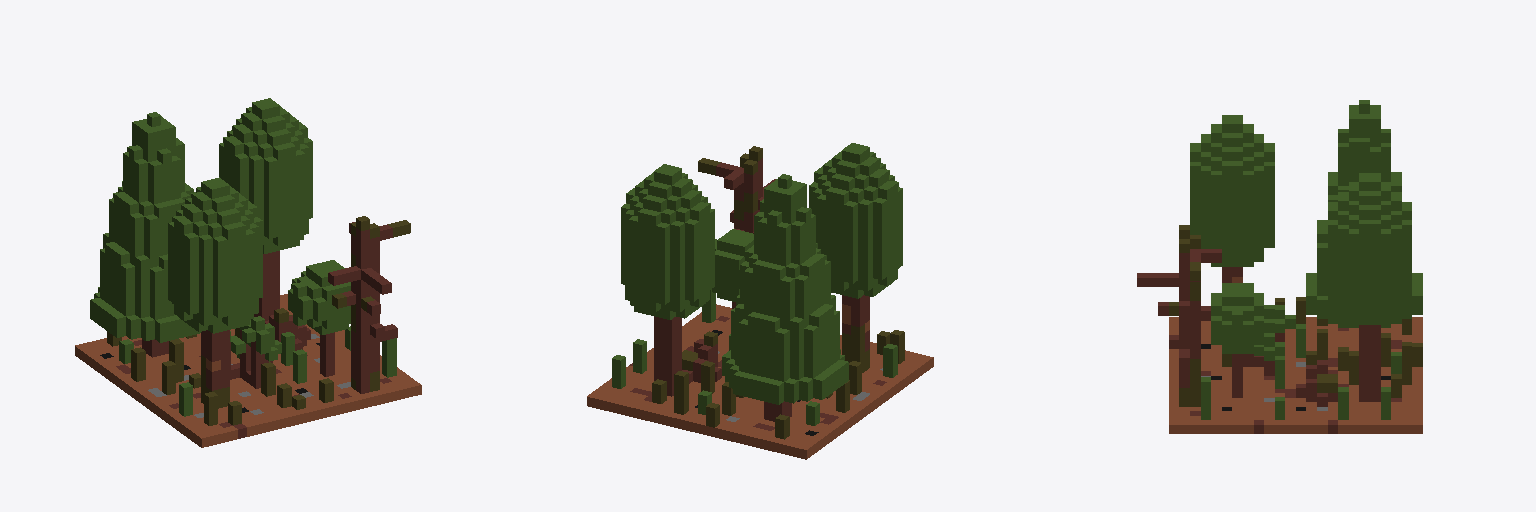
3 views of the same model, side by side, from view 1: azimuth 30°, elevation 25°; view 2: azimuth 150°, elevation 25°; view 3: azimuth 270°, elevation 25° (orthographic).
Visible parts, largest first — view 1: object 1; view 2: object 1; view 3: object 1.
Part boxes in pixels (x1,y1,x2,y2): object 1: (75, 98, 421, 447); object 1: (587, 143, 933, 459); object 1: (1137, 100, 1422, 433).
Size of the model in its own units: 2.4 by 2.6 by 2.7.
1 materials, 1 textured.